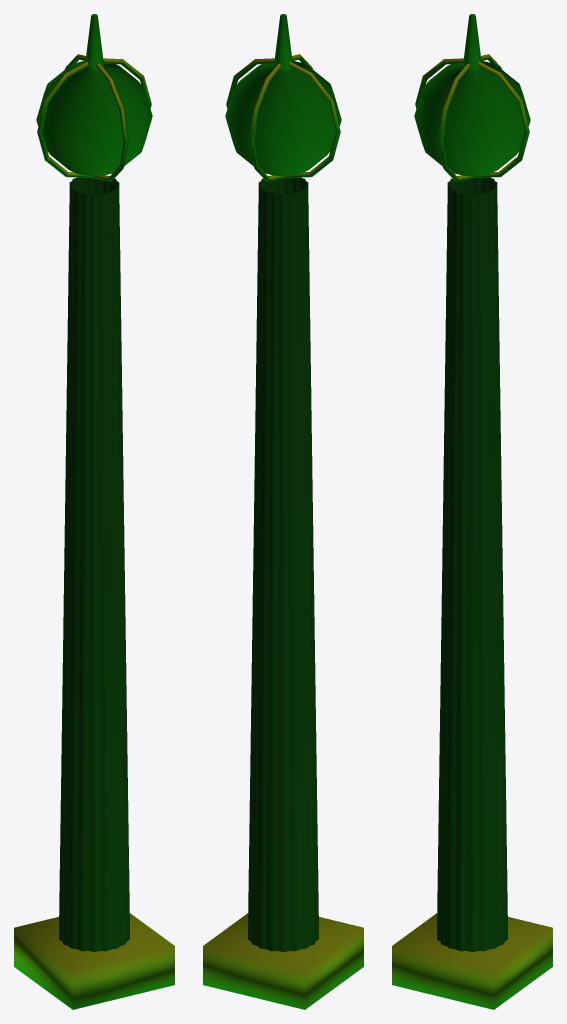
Rendered from iskarra_lamp_column.glb.
3 views of the same model, side by side, from view 1: azimuth 30°, elevation 25°; view 2: azimuth 150°, elevation 25°; view 3: azimuth 330°, elevation 25° (orthographic).
Parts seen in each view (by area): view 1: iskarra_lamp_column; view 2: iskarra_lamp_column; view 3: iskarra_lamp_column.
Boxes of the visible parts, box(x1,y1,x2,y2) form: iskarra_lamp_column: box(14, 14, 174, 1009); iskarra_lamp_column: box(203, 14, 363, 1009); iskarra_lamp_column: box(392, 14, 552, 1009).
Size of what is drawn, in the model's own units: 0.816 by 6.55 by 0.816.
